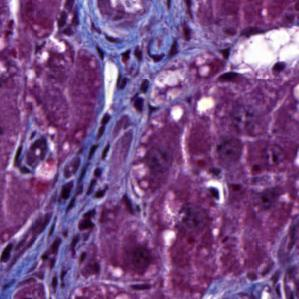ballooning: (227, 24, 297, 80)
